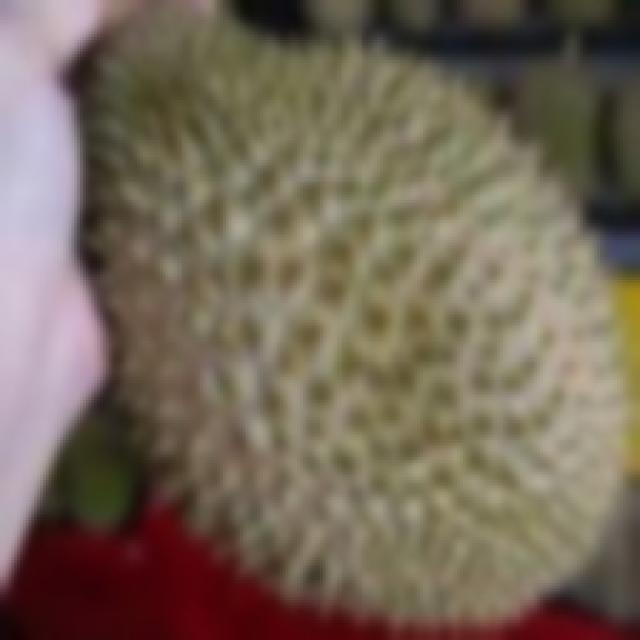d2: (82, 21, 628, 614)
